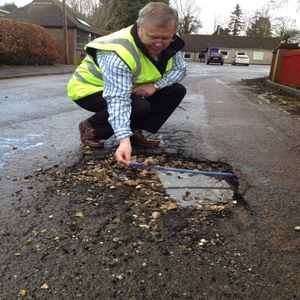pothole: (156, 154, 240, 220)
